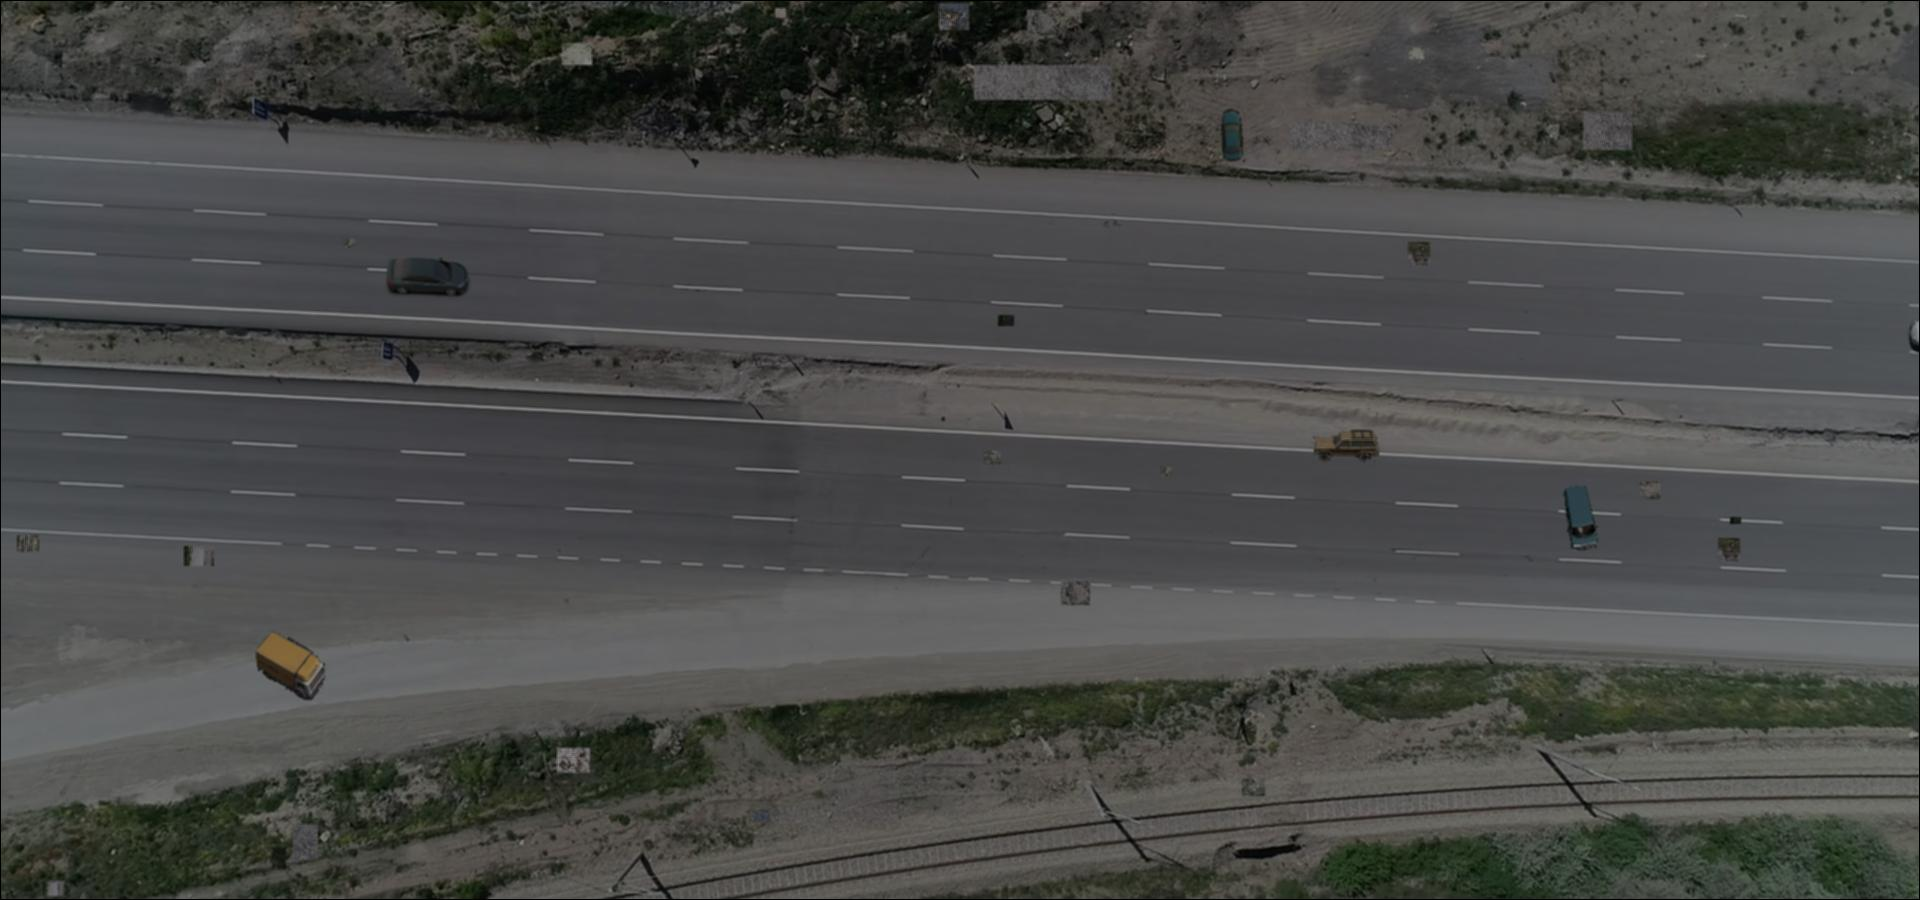arac: (253, 628, 324, 700), (384, 257, 471, 300), (1562, 485, 1599, 550), (1313, 429, 1380, 462), (1220, 109, 1245, 162)
